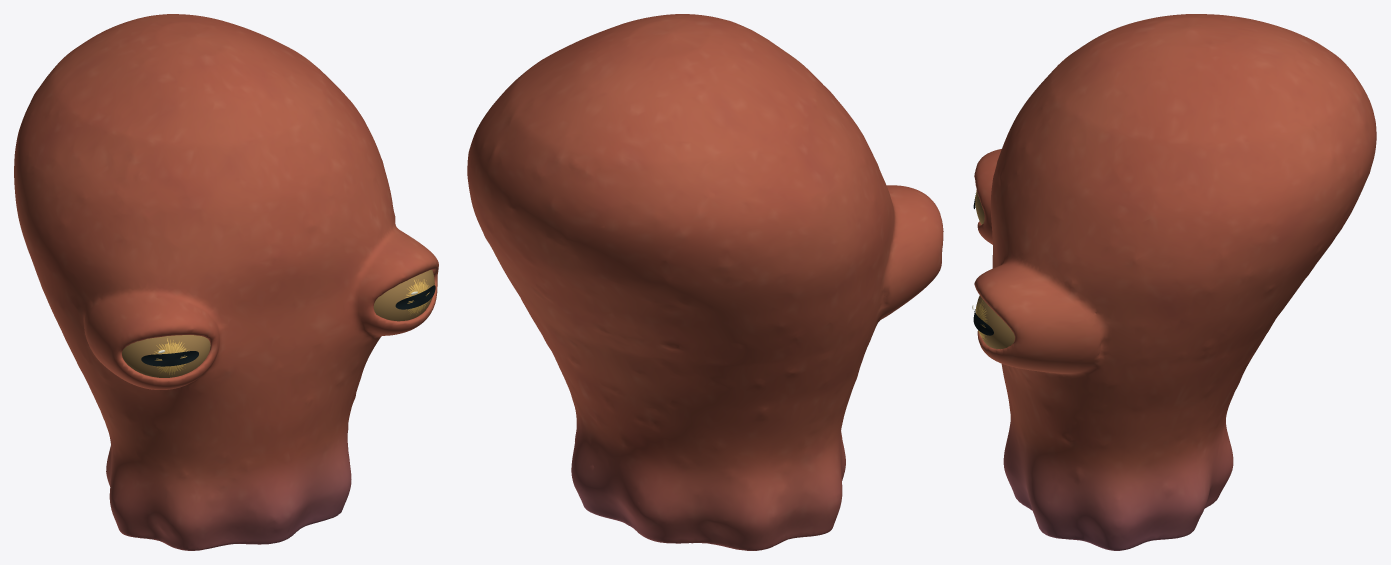
Rendered from octo.glb.
3 views of the same model, side by side, from view 1: azimuth 30°, elevation 25°; view 2: azimuth 150°, elevation 25°; view 3: azimuth 270°, elevation 25° (orthographic). The views are drawn at different scales.
Parts seen in each view (by area): view 1: OctoSkin, Embedded ochre eye globe, Embedded ochre eye globe.001, Horizontal pupil; view 2: OctoSkin; view 3: OctoSkin, Embedded ochre eye globe.001.
Part boxes in pixels (bbox=[...]): OctoSkin: bbox=[14, 14, 438, 550]; Embedded ochre eye globe: bbox=[122, 335, 210, 377]; Embedded ochre eye globe.001: bbox=[373, 270, 434, 321]; Horizontal pupil: bbox=[141, 351, 198, 366]; OctoSkin: bbox=[467, 14, 943, 550]; OctoSkin: bbox=[974, 14, 1376, 550]; Embedded ochre eye globe.001: bbox=[976, 295, 1014, 349].
Size of the model in its own units: 1.31 by 1.69 by 1.32.
